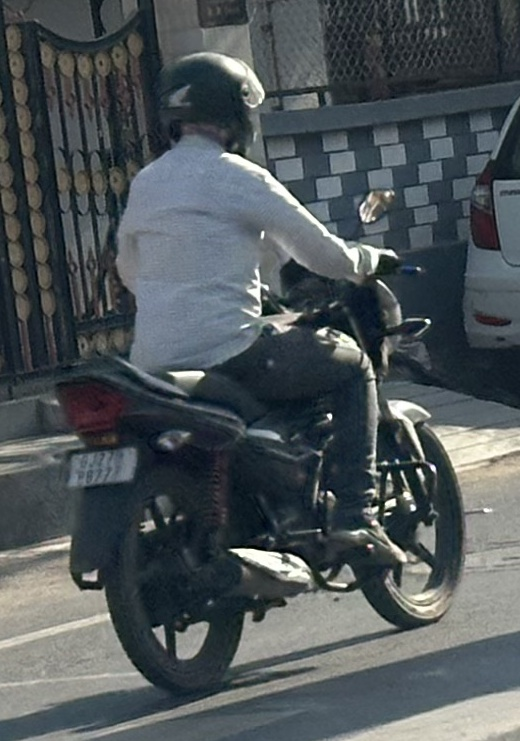BikeWithRider: (49, 48, 472, 694)
Helmet: (158, 52, 263, 161)
